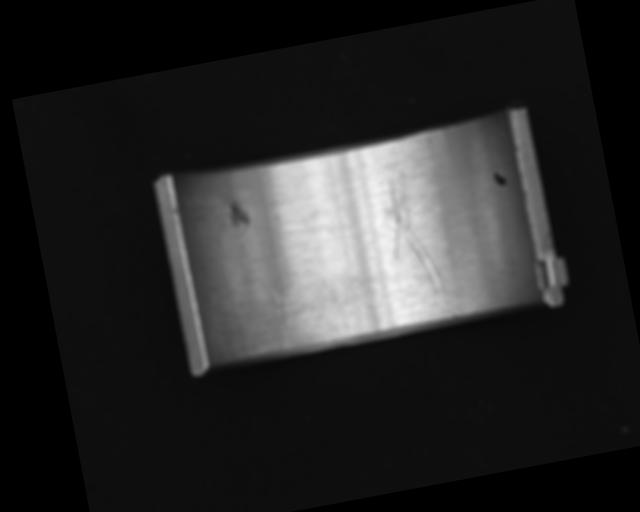blot: (491, 167, 508, 188)
bruise: (225, 199, 252, 230)
nick: (376, 165, 458, 326)
scratch: (240, 256, 367, 356)
